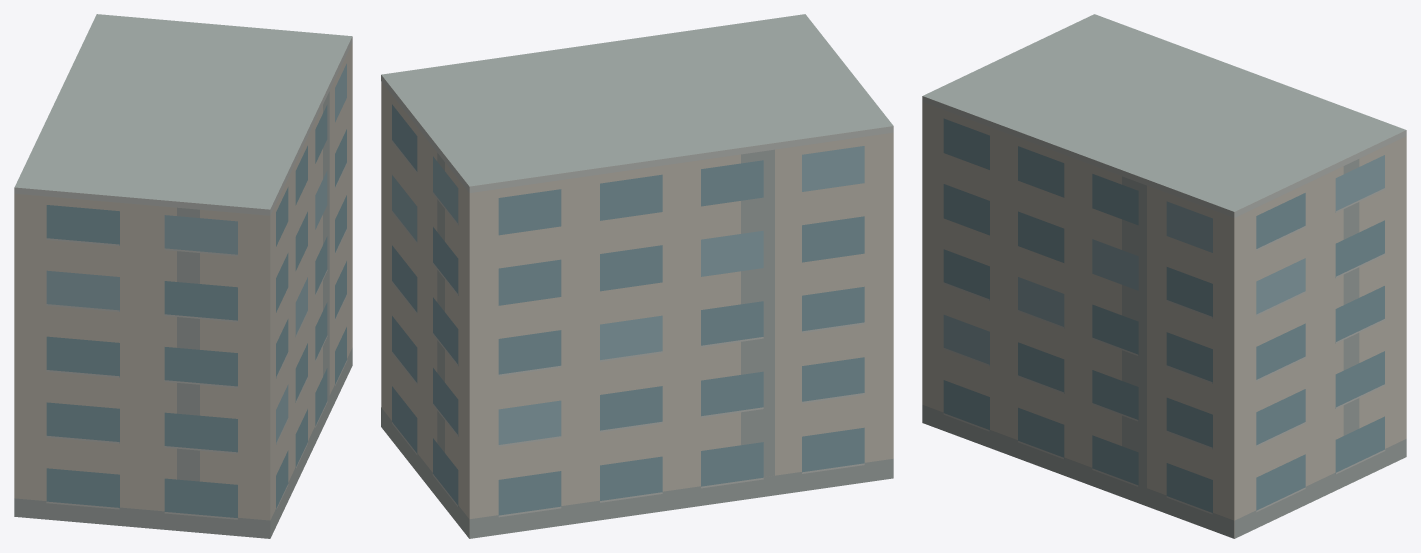
File: survey-upis-32783932.glb
3 renders of one model, left to right at view 1: azimuth 30°, elevation 25°; view 2: azimuth 150°, elevation 25°; view 3: azimuth 270°, elevation 25°, orthographic. The views are drawn at different scales.
Parts seen in each view (by area): view 1: survey-upis-32783932.tmp; view 2: survey-upis-32783932.tmp; view 3: survey-upis-32783932.tmp.
Part boxes in pixels (x1,y1,x2,y2): survey-upis-32783932.tmp: (14, 14, 352, 538); survey-upis-32783932.tmp: (381, 14, 893, 538); survey-upis-32783932.tmp: (922, 14, 1406, 538).
Size of the model in its own units: 16.82 by 12.95 by 17.38.
